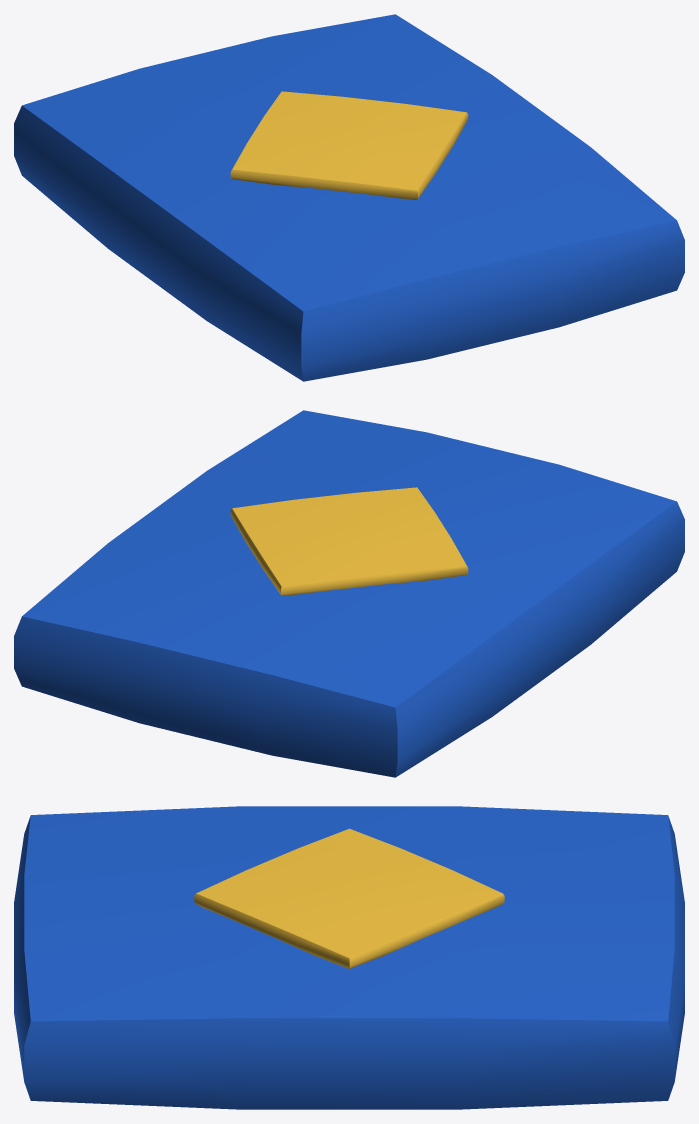
File: book.glb
3 views of the same model, one above another, from view 1: azimuth 30°, elevation 25°; view 2: azimuth 150°, elevation 25°; view 3: azimuth 270°, elevation 25° (orthographic). The views are drawn at different scales.
Visible parts, largest first — view 1: BookProp; view 2: BookProp; view 3: BookProp.
Part boxes in pixels (box(x1,y1,x2,y2)): BookProp: box(14, 14, 684, 381); BookProp: box(14, 410, 684, 777); BookProp: box(14, 806, 684, 1109).
Bounding box in the file's own units: 0.56 × 0.145 × 0.72.
